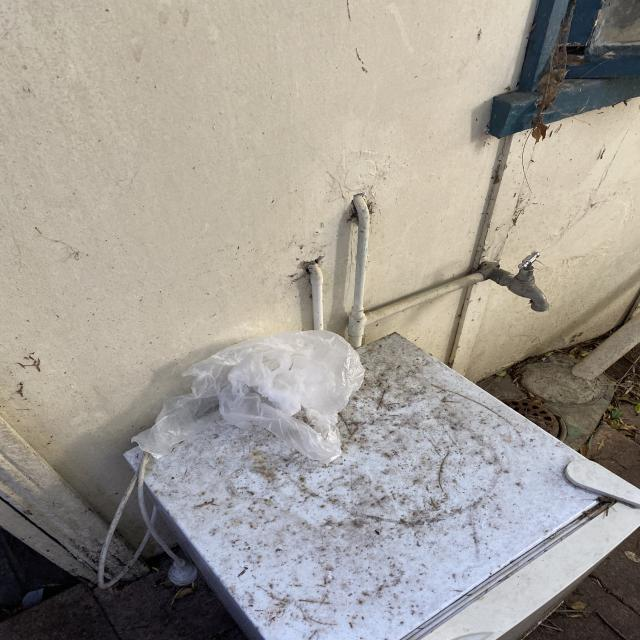bag: (130, 329, 366, 467)
